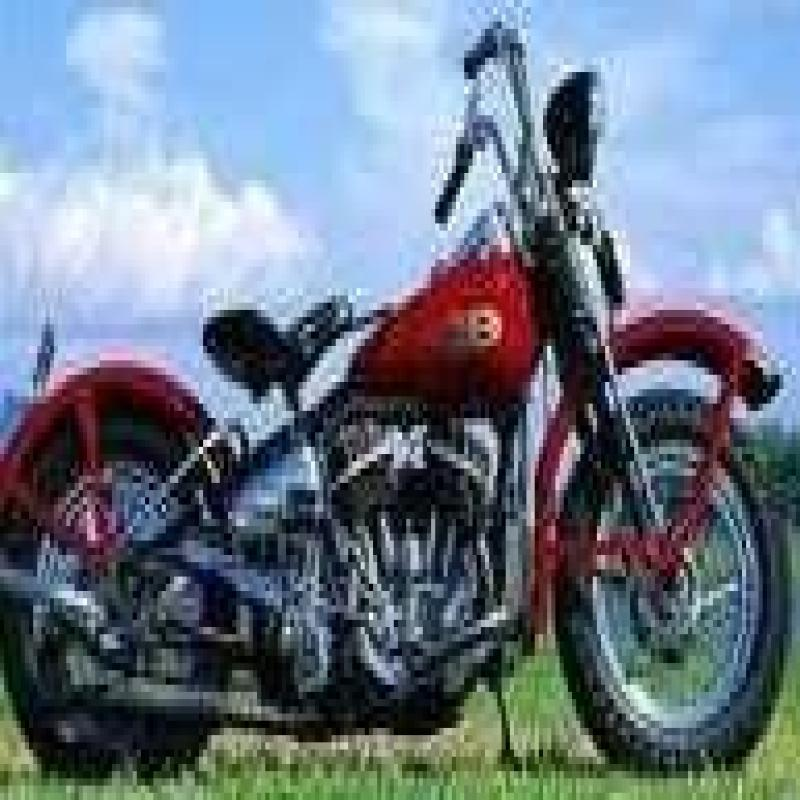bike: (7, 30, 771, 770)
